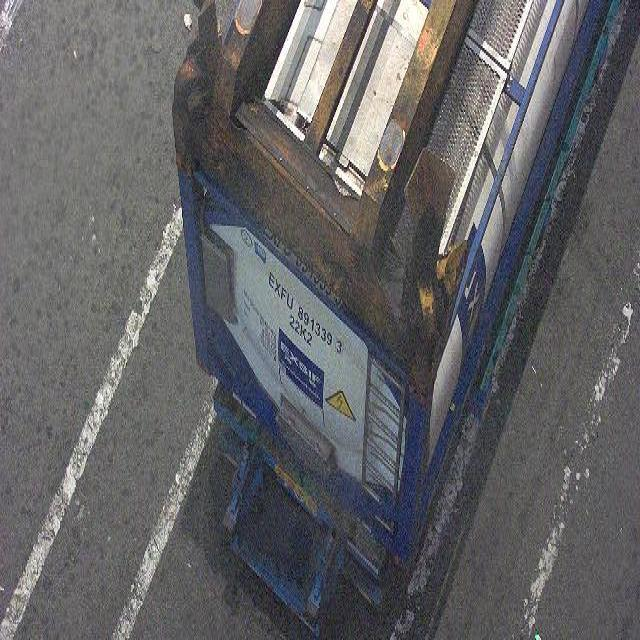ISO: (286, 314, 312, 346)
container_number: (267, 268, 344, 354)
